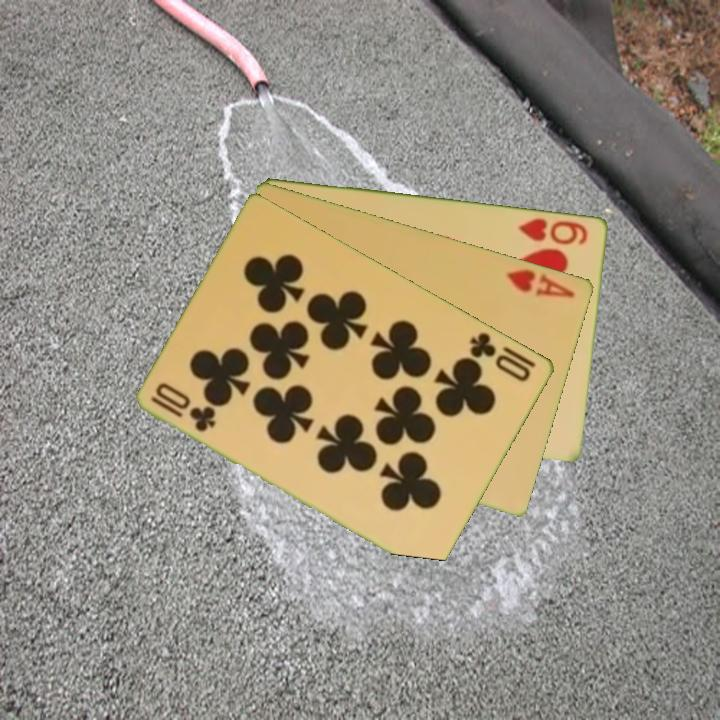10c: (148, 379, 220, 435), (466, 328, 534, 385)
6h: (515, 214, 591, 247)
Ah: (502, 265, 579, 301)
